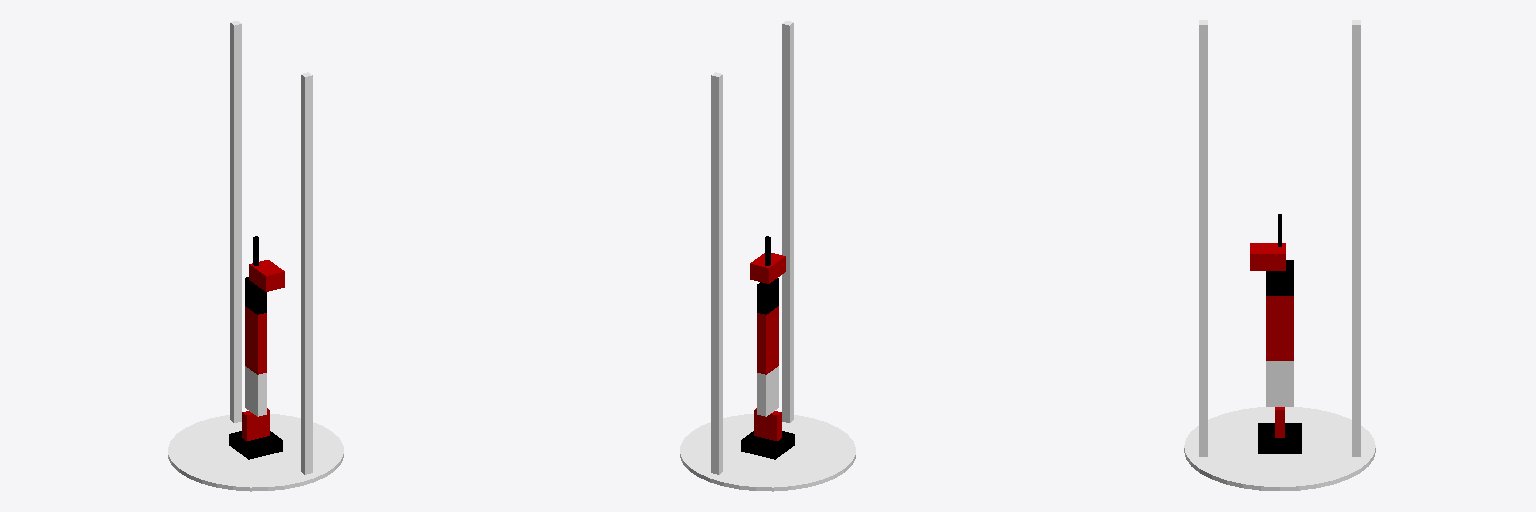
robot.urdf — six_dof_arm:
<?xml version="1.0" ?>
<!-- =================================================================================== -->
<!-- |    This document was autogenerated by xacro from six_dof_arm.xacro              | -->
<!-- |    EDITING THIS FILE BY HAND IS NOT RECOMMENDED                                 | -->
<!-- =================================================================================== -->
<robot name="six_dof_arm" xmlns:xacro="http://ros.org/wiki/xacro">
  <!-- Include materials -->
  <material name="Black">
    <color rgba="0.0 0.0 0.0 1.0"/>
  </material>
  <material name="Red">
    <color rgba="0.8 0.0 0.0 1.0"/>
  </material>
  <material name="White">
    <color rgba="1.0 1.0 1.0 1.0"/>
  </material>
  <!-- BOTTOM FIXED LINK 
This link is the base of the arm in which arm is placed 

-->
  <!-- ///////////////////////////////////////////////////////////////////////////////////////////////////////////////////// -->
  <joint name="bottom_joint" type="fixed">
    <origin rpy="0 0 0" xyz="0 0 0"/>
    <parent link="bottom_link"/>
    <child link="base_link"/>
  </joint>
  <link name="bottom_link">
    <visual>
      <origin rpy="0 0 0" xyz=" 0 0 0"/>
      <geometry>
        <cylinder length="0.01" radius="0.2"/>
      </geometry>
      <material name="White"/>
    </visual>
    <collision>
      <origin rpy="0 0 0" xyz=" 0 0 0"/>
      <geometry>
        <box size="1 1 0.02"/>
      </geometry>
    </collision>
    &gt;

  
  </link>
  <gazebo reference="bottom_link">
    <material>Gazebo/White</material>
  </gazebo>
  <!-- ///////////////////////////////////////////////////////////////////////////////////////////////////////////////////// -->
  <!-- BASE LINK -->
  <link name="base_link">
    <visual>
      <origin rpy="0 0 0" xyz="0 0 0.024"/>
      <!-- rotate PI/2 -->
      <geometry>
        <box size="0.09 0.09 0.028"/>
      </geometry>
      <material name="Black"/>
    </visual>
    <collision>
      <origin rpy="0 0 0" xyz="0 0 0.024"/>
      <!-- rotate PI/2 -->
      <geometry>
        <box size="0.09 0.09 0.028"/>
      </geometry>
    </collision>
    &gt;
	
    <inertial>
      <mass value="1"/>
      <inertia ixx="1.0" ixy="0.0" ixz="0.0" iyy="0.5" iyz="0.0" izz="1.0"/>
    </inertial>
  </link>
  <gazebo reference="base_link">
    <material>Gazebo/Black</material>
  </gazebo>
  <joint name="shoulder_pan_joint" type="revolute">
    <parent link="base_link"/>
    <child link="shoulder_pan_link"/>
    <origin rpy="0 0 0" xyz="0 0 0.038"/>
    <axis xyz="0 0 1"/>
    <limit effort="300" lower="-0.95993167404" upper="2.1816457596" velocity="1"/>
    <dynamics damping="50" friction="1"/>
  </joint>
  <!-- ///////////////////////////////////////////////////////////////////////////////////////////////////////////////////// -->
  <!-- SHOULDER PAN LINK -->
  <link name="shoulder_pan_link">
    <visual>
      <origin rpy="0 0 0" xyz="0 0 0.0325"/>
      <geometry>
        <box size="0.06 0.02 0.065"/>
      </geometry>
      <material name="Red"/>
    </visual>
    <collision>
      <origin rpy="0 0 0" xyz="0 0 0.0325"/>
      <geometry>
        <box size="0.06 0.02 0.065"/>
      </geometry>
    </collision>
    <inertial>
      <mass value="1"/>
      <inertia ixx="1.0" ixy="0.0" ixz="0.0" iyy="0.5" iyz="0.0" izz="1.0"/>
    </inertial>
  </link>
  <gazebo reference="shoulder_pan_link">
    <material>Gazebo/Red</material>
  </gazebo>
  <joint name="shoulder_pitch_joint" type="revolute">
    <parent link="shoulder_pan_link"/>
    <child link="shoulder_pitch_link"/>
    <origin rpy="0 0 0" xyz="0 0 0.065"/>
    <axis xyz="0 1 0"/>
    <limit effort="300" lower="-1.396122596" upper="1.7453417404" velocity="1"/>
    <dynamics damping="50" friction="1"/>
  </joint>
  <!-- ///////////////////////////////////////////////////////////////////////////////////////////////////////////////////// -->
  <!-- SHOULDER PITCH LINK -->
  <link name="shoulder_pitch_link">
    <visual>
      <origin rpy="1.570795 1.570795 1.570795" xyz="0.0 0 0.0525"/>
      <geometry>
        <box size="0.105 0.057 0.025"/>
      </geometry>
      <material name="White"/>
    </visual>
    <collision>
      <origin rpy="1.570795 1.570795 1.570795" xyz="0.0 0 0.0525"/>
      <geometry>
        <box size="0.105 0.057 0.025"/>
      </geometry>
    </collision>
    <inertial>
      <mass value="1"/>
      <inertia ixx="1.0" ixy="0.0" ixz="0.0" iyy="0.5" iyz="0.0" izz="1.0"/>
    </inertial>
  </link>
  <gazebo reference="shoulder_pitch_link">
    <material>Gazebo/White</material>
  </gazebo>
  <joint name="elbow_pitch_joint" type="revolute">
    <parent link="shoulder_pitch_link"/>
    <child link="elbow_pitch_link"/>
    <origin rpy="0 0 0" xyz="0 0 0.105"/>
    <axis xyz="0 -1 0"/>
    <limit effort="300" lower="-3.14159" upper="0" velocity="1"/>
    <dynamics damping="50" friction="1"/>
  </joint>
  <!-- ///////////////////////////////////////////////////////////////////////////////////////////////////////////////////// -->
  <!-- ELBOW PITCH LINK -->
  <link name="elbow_pitch_link">
    <visual>
      <origin rpy="1.570795 1.570795 0" xyz="0 0 0.075"/>
      <geometry>
        <box size="0.15 0.025 0.057"/>
      </geometry>
      <material name="Red"/>
    </visual>
    <collision>
      <origin rpy="1.570795 1.570795 0" xyz="0 0 0.075"/>
      <geometry>
        <box size="0.15 0.025 0.057"/>
      </geometry>
    </collision>
    <inertial>
      <mass value="1"/>
      <inertia ixx="1.0" ixy="0.0" ixz="0.0" iyy="0.5" iyz="0.0" izz="1.0"/>
    </inertial>
  </link>
  <gazebo reference="elbow_pitch_link">
    <material>Gazebo/Red</material>
  </gazebo>
  <joint name="wrist_pitch_joint" type="revolute">
    <parent link="elbow_pitch_link"/>
    <child link="wrist_pitch_link"/>
    <origin rpy="0 0 0" xyz="0.0 0.00 0.150"/>
    <axis xyz="0 1 0"/>
    <limit effort="300" lower="-1.39626222222" upper="1.74532777778" velocity="1"/>
    <dynamics damping="50" friction="1"/>
  </joint>
  <!-- WRIST PITCH LINK -->
  <link name="wrist_pitch_link">
    <visual>
      <origin rpy="0 1.570795 1.570795" xyz="0 0 0.035"/>
      <geometry>
        <box size="0.07 0.025 0.057"/>
      </geometry>
      <material name="Black"/>
    </visual>
    <collision>
      <origin rpy="0 1.570795 1.570795" xyz="0 0 0.035"/>
      <geometry>
        <box size="0.07 0.025 0.057"/>
      </geometry>
    </collision>
    <inertial>
      <mass value="1"/>
      <inertia ixx="1.0" ixy="0.0" ixz="0.0" iyy="0.5" iyz="0.0" izz="1.0"/>
    </inertial>
  </link>
  <gazebo reference="wrist_pitch_link">
    <material>Gazebo/White</material>
  </gazebo>
  <joint name="gripper_roll_joint" type="revolute">
    <parent link="wrist_pitch_link"/>
    <child link="gripper_roll_link"/>
    <origin rpy="0 0  1.570795" xyz="0 0 0.07"/>
    <axis xyz="0 0 1"/>
    <!--
		<limit effort="300" velocity="1" lower="-2.61799387799" upper="2.6128806087" />
		-->
    <limit effort="300" lower="0" upper="3.14159" velocity="1"/>
    <dynamics damping="50" friction="1"/>
  </joint>
  <!-- ///////////////////////////////////////////////////////////////////////////////////////////////////////////////////// -->
  <!-- GRIPPER ROLL LINK -->
  <link name="gripper_roll_link">
    <visual>
      <origin rpy="0 0 0" xyz="-0.025 -0.015 0.02"/>
      <geometry>
        <box size="0.075 0.05 0.04"/>
        <!-- <radius="${gripper_roll_width}" length="${gripper_roll_len}"/> -->
      </geometry>
      <material name="Red"/>
    </visual>
    <collision>
      <origin rpy="0 0 0" xyz="-0.03 -0.01 0.025"/>
      <geometry>
        <box size="0.075 0.05 0.04"/>
      </geometry>
    </collision>
    <inertial>
      <mass value="1"/>
      <inertia ixx="1.0" ixy="0.0" ixz="0.0" iyy="0.5" iyz="0.0" izz="1.0"/>
    </inertial>
  </link>
  <gazebo reference="gripper_roll_link">
    <material>Gazebo/Red</material>
  </gazebo>
  <!--joint name="finger_joint1" type="prismatic">
    <parent link="gripper_roll_link"/>
    <child link="gripper_finger_link1"/>
    <origin xyz="0 0 0.01" />
    <axis xyz="1 0 0" />
      <limit effort="100" lower="0" upper="0.025" velocity="1.0"/>


      <safety_controller k_position="20"
                         k_velocity="20"
                         soft_lower_limit="${-0.15 }"
                         soft_upper_limit="${ 0.0 }"/>


    <dynamics damping="50" friction="1"/>
  </joint -->
  <!-- ///////////////////////////////////////////////////////////////////////////////////////////////////////////////////// -->
  <!-- LEFT GRIPPER AFT LINK -->
  <link name="gripper_finger_link1">
    <visual>
      <origin rpy="0 1.570795 0" xyz="0.0 0 0.035"/>
      <geometry>
        <box size="0.07 0.01 0.01"/>
      </geometry>
      <material name="Black"/>
    </visual>
    <inertial>
      <mass value="1"/>
      <inertia ixx="1.0" ixy="0.0" ixz="0.0" iyy="0.5" iyz="0.0" izz="1.0"/>
    </inertial>
  </link>
  <gazebo reference="l_gripper_aft_link">
    <material>Gazebo/Black</material>
  </gazebo>
  <!-- Joint between Wrist roll and finger 1 -->
  <joint name="finger_joint1" type="prismatic">
    <parent link="gripper_roll_link"/>
    <child link="gripper_finger_link1"/>
    <origin xyz="0.0 0.0 0.04"/>
    <axis xyz="1 0 0"/>
    <limit effort="1" lower="0" upper="0.025" velocity="1.0"/>
    <!--    <mimic joint="gripper_finger_joint" multiplier="-1.0" offset="0.0" /> -->
    <dynamics damping="50" friction="1"/>
  </joint>
  <!-- RIGHT GRIPPER AFT LINK -->
  <link name="gripper_finger_link2">
    <visual>
      <origin rpy="0 1.570795 0" xyz="0.0 0 0.035"/>
      <geometry>
        <box size="0.07 0.01 0.01"/>
      </geometry>
      <material name="Black"/>
    </visual>
    <inertial>
      <mass value="1"/>
      <inertia ixx="1.0" ixy="0.0" ixz="0.0" iyy="0.5" iyz="0.0" izz="1.0"/>
    </inertial>
  </link>
  <gazebo reference="r_gripper_aft_link">
    <material>Gazebo/Black</material>
  </gazebo>
  <!-- Joint between Wrist roll and finger 2 -->
  <joint name="finger_joint2" type="prismatic">
    <parent link="gripper_roll_link"/>
    <child link="gripper_finger_link2"/>
    <origin xyz="0.0 0.00 0.04"/>
    <axis xyz="1 0 0"/>
    <limit effort="1" lower="-0.025" upper="0" velocity="1.0"/>
    <!--    <mimic joint="gripper_finger_joint" multiplier="-1.0" offset="0.0" /> -->
    <dynamics damping="50" friction="1"/>
  </joint>
  <!-- Grasping frame -->
  <!-- link name="grasping_frame">

      <inertial>
        <origin xyz="0 0 0" rpy="0 0 0"/>
        <mass value="0.0001"/>
        <cuboid_inertia mass="0.0001" x="0.001" y="0.001" z="0.001"/>
        <inertia  ixx="1.0" ixy="0.0"  ixz="0.0"  iyy="100.0"  iyz="0.0"  izz="1.0" />

      </inertial>

    <visual>
      <origin xyz="0 0 0"/>
      <geometry>
					
          <box size="${grasp_frame_len} ${grasp_frame_width} ${grasp_frame_height}" />
					
      </geometry>
      <material name="White" />
    </visual>

    </link>
	
    <joint name="grasping_frame_joint" type="fixed">
      <parent link="gripper_roll_link"/>
      <child link="grasping_frame"/>
      <origin xyz="0.08 0 0" rpy="0 0 0"/>
    </joint-->
  <!-- Transmissions for ROS Control -->
  <transmission name="tran1">
    <type>transmission_interface/SimpleTransmission</type>
    <joint name="shoulder_pan_joint">
      <hardwareInterface>hardware_interface/PositionJointInterface</hardwareInterface>
    </joint>
    <actuator name="motor1">
      <hardwareInterface>hardware_interface/PositionJointInterface</hardwareInterface>
      <mechanicalReduction>1</mechanicalReduction>
    </actuator>
  </transmission>
  <transmission name="tran1">
    <type>transmission_interface/SimpleTransmission</type>
    <joint name="shoulder_pitch_joint">
      <hardwareInterface>hardware_interface/PositionJointInterface</hardwareInterface>
    </joint>
    <actuator name="motor1">
      <hardwareInterface>hardware_interface/PositionJointInterface</hardwareInterface>
      <mechanicalReduction>1</mechanicalReduction>
    </actuator>
  </transmission>
  <transmission name="tran1">
    <type>transmission_interface/SimpleTransmission</type>
    <joint name="elbow_pitch_joint">
      <hardwareInterface>hardware_interface/PositionJointInterface</hardwareInterface>
    </joint>
    <actuator name="motor1">
      <hardwareInterface>hardware_interface/PositionJointInterface</hardwareInterface>
      <mechanicalReduction>1</mechanicalReduction>
    </actuator>
  </transmission>
  <transmission name="tran1">
    <type>transmission_interface/SimpleTransmission</type>
    <joint name="wrist_pitch_joint">
      <hardwareInterface>hardware_interface/PositionJointInterface</hardwareInterface>
    </joint>
    <actuator name="motor1">
      <hardwareInterface>hardware_interface/PositionJointInterface</hardwareInterface>
      <mechanicalReduction>1</mechanicalReduction>
    </actuator>
  </transmission>
  <transmission name="tran1">
    <type>transmission_interface/SimpleTransmission</type>
    <joint name="gripper_roll_joint">
      <hardwareInterface>hardware_interface/PositionJointInterface</hardwareInterface>
    </joint>
    <actuator name="motor1">
      <hardwareInterface>hardware_interface/PositionJointInterface</hardwareInterface>
      <mechanicalReduction>1</mechanicalReduction>
    </actuator>
  </transmission>
  <transmission name="tran1">
    <type>transmission_interface/SimpleTransmission</type>
    <joint name="finger_joint1">
      <hardwareInterface>hardware_interface/PositionJointInterface</hardwareInterface>
    </joint>
    <actuator name="motor1">
      <hardwareInterface>hardware_interface/PositionJointInterface</hardwareInterface>
      <mechanicalReduction>1</mechanicalReduction>
    </actuator>
  </transmission>
  <transmission name="tran1">
    <type>transmission_interface/SimpleTransmission</type>
    <joint name="finger_joint2">
      <hardwareInterface>hardware_interface/PositionJointInterface</hardwareInterface>
    </joint>
    <actuator name="motor1">
      <hardwareInterface>hardware_interface/PositionJointInterface</hardwareInterface>
      <mechanicalReduction>1</mechanicalReduction>
    </actuator>
  </transmission>
  <!-- ros_control plugin -->
  <gazebo>
    <plugin filename="libgazebo_ros_control.so" name="gazebo_ros_control">
      <robotNamespace>/six_dof_arm</robotNamespace>
    </plugin>
  </gazebo>
  <!-- Links to Kinect -->
  <link name="kinect_link">
    <visual>
      <origin rpy="0 0 0" xyz=" 0 0 0.5"/>
      <geometry>
        <box size="0.02 0.02 1.0"/>
      </geometry>
      <material name="White"/>
    </visual>
    <collision>
      <origin rpy="0 0 0" xyz="0 0.0 0.5"/>
      <geometry>
        <box size="0.02 0.02 1.0"/>
      </geometry>
    </collision>
    &gt;

    
    <inertial>
      <mass value="1"/>
      <inertia ixx="1.0" ixy="0.0" ixz="0.0" iyy="0.5" iyz="0.0" izz="1.0"/>
    </inertial>
  </link>
  <joint name="kinect_joint" type="fixed">
    <origin rpy="0 0 0" xyz="0.04 0.16 0.0"/>
    <parent link="base_link"/>
    <child link="kinect_link"/>
  </joint>
  <gazebo reference="kinect_link">
    <material>Gazebo/White</material>
  </gazebo>
  <link name="kinect_link2">
    <visual>
      <origin rpy="0 0 0" xyz=" 0 0 0.5"/>
      <geometry>
        <box size="0.02 0.02 1.0"/>
      </geometry>
      <material name="White"/>
    </visual>
    <collision>
      <origin rpy="0 0 0" xyz="0 0.0 0.5"/>
      <geometry>
        <box size="0.02 0.02 1.0"/>
      </geometry>
    </collision>
    &gt;

    
    <inertial>
      <mass value="1"/>
      <inertia ixx="1.0" ixy="0.0" ixz="0.0" iyy="0.5" iyz="0.0" izz="1.0"/>
    </inertial>
  </link>
  <joint name="kinect_joint2" type="fixed">
    <origin rpy="0 0 0" xyz="0.04 -0.16 0.0"/>
    <parent link="base_link"/>
    <child link="kinect_link2"/>
  </joint>
  <gazebo reference="kinect_link">
    <material>Gazebo/White</material>
  </gazebo>
  <!-- frames in the center of the camera -->
  <joint name="rgbd_camera_joint" type="fixed">
    <origin rpy="0 1.57079632679 0" xyz="0.02 -0.11 1.0"/>
    <parent link="kinect_link"/>
    <child link="rgbd_camera_link"/>
  </joint>
  <link name="rgbd_camera_link">
    <inertial>
      <origin rpy="0 0 0" xyz="-0.00936000000 -0.00003000000 -0.00273000000"/>
      <mass value="0.21970000000"/>
      <inertia ixx="0.00000429247" ixy="0.00000000000" ixz="0.00000002565" iyy="0.00000008027" iyz="0.00000000000" izz="0.00000427339"/>
    </inertial>
    <visual>
      <origin rpy="0 0 0" xyz="0 0 0"/>
      <geometry>
        <mesh filename="package://mastering_ros_robot_description_pkg/meshes/sensors/xtion_pro_live/xtion_pro_live.dae"/>
      </geometry>
      <material name="DarkGrey"/>
    </visual>
  </link>
  <joint name="rgbd_camera_optical_joint" type="fixed">
    <origin rpy="-1.57079632679 0 -1.57079632679" xyz="0 0 0"/>
    <parent link="rgbd_camera_link"/>
    <child link="rgbd_camera_optical_frame"/>
  </joint>
  <link name="rgbd_camera_optical_frame">
    <inertial>
      <origin rpy="0 0 0" xyz="0 0 0"/>
      <mass value="0.001"/>
      <inertia ixx="0.00001" ixy="0" ixz="0" iyy="0.00001" iyz="0" izz="0.00001"/>
    </inertial>
  </link>
  <!-- Depth sensor frames -->
  <joint name="rgbd_camera_depth_joint" type="fixed">
    <origin rpy="0 0 0" xyz="0.0 0.049 0.0"/>
    <parent link="rgbd_camera_link"/>
    <child link="rgbd_camera_depth_frame"/>
  </joint>
  <link name="rgbd_camera_depth_frame">
    <inertial>
      <origin rpy="0 0 0" xyz="0 0 0"/>
      <mass value="0.001"/>
      <inertia ixx="0.00001" ixy="0" ixz="0" iyy="0.00001" iyz="0" izz="0.00001"/>
    </inertial>
  </link>
  <joint name="rgbd_camera_depth_optical_joint" type="fixed">
    <origin rpy="-1.57079632679 0.0 -1.57079632679" xyz="0 0 0"/>
    <parent link="rgbd_camera_depth_frame"/>
    <child link="rgbd_camera_depth_optical_frame"/>
  </joint>
  <link name="rgbd_camera_depth_optical_frame">
    <inertial>
      <origin rpy="0 0 0" xyz="0 0 0"/>
      <mass value="0.001"/>
      <inertia ixx="0.00001" ixy="0" ixz="0" iyy="0.00001" iyz="0" izz="0.00001"/>
    </inertial>
  </link>
  <!-- RGB sensor frames -->
  <joint name="rgbd_camera_rgb_joint" type="fixed">
    <origin rpy="0 0 0" xyz="0.0 0.022 0.0"/>
    <parent link="rgbd_camera_link"/>
    <child link="rgbd_camera_rgb_frame"/>
  </joint>
  <link name="rgbd_camera_rgb_frame">
    <inertial>
      <origin rpy="0 0 0" xyz="0 0 0"/>
      <mass value="0.001"/>
      <inertia ixx="0.00001" ixy="0" ixz="0" iyy="0.00001" iyz="0" izz="0.00001"/>
    </inertial>
  </link>
  <joint name="rgbd_camera_rgb_optical_joint" type="fixed">
    <origin rpy="-1.57079632679 0.0 -1.57079632679" xyz="0 0 0"/>
    <parent link="rgbd_camera_rgb_frame"/>
    <child link="rgbd_camera_rgb_optical_frame"/>
  </joint>
  <link name="rgbd_camera_rgb_optical_frame">
    <inertial>
      <origin rpy="0 0 0" xyz="0 0 0"/>
      <mass value="0.001"/>
      <inertia ixx="0.00001" ixy="0" ixz="0" iyy="0.00001" iyz="0" izz="0.00001"/>
    </inertial>
  </link>
  <gazebo reference="rgbd_camera_link">
    <!-- Depth (IR) -->
    <sensor name="rgbd_camera_frame_sensor" type="depth">
      <always_on>true</always_on>
      <update_rate>6.0</update_rate>
      <camera>
        <horizontal_fov>1.01229096616</horizontal_fov>
        <image>
          <format>R8G8B8</format>
          <width>800</width>
          <height>600</height>
        </image>
        <clip>
          <near>0.5</near>
          <far>3.0</far>
        </clip>
      </camera>
      <plugin filename="libgazebo_ros_openni_kinect.so" name="rgbd_camera_frame_controller">
        <alwaysOn>true</alwaysOn>
        <updateRate>6.0</updateRate>
        <cameraName>rgbd_camera</cameraName>
        <imageTopicName>ir/image_raw</imageTopicName>
        <cameraInfoTopicName>ir/camera_info</cameraInfoTopicName>
        <depthImageTopicName>depth/image_raw</depthImageTopicName>
        <depthImageCameraInfoTopicName>depth/camera_info</depthImageCameraInfoTopicName>
        <pointCloudTopicName>depth/points</pointCloudTopicName>
        <frameName>rgbd_camera_optical_frame</frameName>
        <pointCloudCutoff>0.5</pointCloudCutoff>
        <pointCloudCutoffMax>3.0</pointCloudCutoffMax>
        <rangeMax>3.0</rangeMax>
        <!-- Distortion parameters not supported in gazebo 1.9.* plugins -->
        <!--distortionK1>0.00000001</distortionK1>
          <distortionK2>0.00000001</distortionK2>
          <distortionK3>0.00000001</distortionK3>
          <distortionT1>0.00000001</distortionT1>
          <distortionT2>0.00000001</distortionT2-->
      </plugin>
    </sensor>
    <!-- RGB -->
    <sensor name="rgbd_camera_frame_sensor" type="depth">
      <always_on>true</always_on>
      <update_rate>6.0</update_rate>
      <camera>
        <horizontal_fov>1.01229096616</horizontal_fov>
        <image>
          <format>R8G8B8</format>
          <width>800</width>
          <height>600</height>
        </image>
        <clip>
          <near>0.5</near>
          <far>3.0</far>
        </clip>
      </camera>
      <plugin filename="libgazebo_ros_openni_kinect.so" name="rgbd_camera_frame_controller">
        <alwaysOn>true</alwaysOn>
        <updateRate>6.0</updateRate>
        <cameraName>rgbd_camera</cameraName>
        <imageTopicName>rgb/image_raw</imageTopicName>
        <cameraInfoTopicName>rgb/camera_info</cameraInfoTopicName>
        <pointCloudTopicName>rgb/points</pointCloudTopicName>
        <depthImageTopicName>depth/image_raw</depthImageTopicName>
        <depthImageCameraInfoTopicName>depth/camera_info</depthImageCameraInfoTopicName>
        <frameName>rgbd_camera_optical_frame</frameName>
        <pointCloudCutoff>0.5</pointCloudCutoff>
        <pointCloudCutoffMax>3.0</pointCloudCutoffMax>
        <rangeMax>3.0</rangeMax>
      </plugin>
    </sensor>
  </gazebo>
</robot>

--- What the picture shows (computed from the rendered views, not written in the file) ---
3 views of the same robot in one strip: view 1: azimuth 30°, elevation 25°; view 2: azimuth 150°, elevation 25°; view 3: azimuth 270°, elevation 25° (orthographic).
Model six_dof_arm with 17 links and 16 joints (5 revolute, 2 prismatic, 9 fixed), rooted at bottom_link, posed all joints at 0.
Links seen in each view (by area): view 1: bottom_link, kinect_link, kinect_link2, elbow_pitch_link, base_link, shoulder_pitch_link, gripper_roll_link, shoulder_pan_link, wrist_pitch_link; view 2: bottom_link, kinect_link, kinect_link2, elbow_pitch_link, base_link, shoulder_pitch_link, gripper_roll_link, shoulder_pan_link, wrist_pitch_link; view 3: bottom_link, kinect_link, kinect_link2, elbow_pitch_link, shoulder_pitch_link, base_link, gripper_roll_link, wrist_pitch_link.
Link boxes in pixels (<box>): bottom_link: <box>168,414,343,491</box>; kinect_link: <box>230,21,241,422</box>; kinect_link2: <box>301,72,312,474</box>; elbow_pitch_link: <box>245,306,266,374</box>; base_link: <box>229,431,282,459</box>; shoulder_pitch_link: <box>245,366,266,416</box>; gripper_roll_link: <box>249,260,284,291</box>; shoulder_pan_link: <box>242,408,269,440</box>; wrist_pitch_link: <box>245,277,266,314</box>; bottom_link: <box>680,414,855,491</box>; kinect_link: <box>711,72,722,474</box>; kinect_link2: <box>782,21,793,422</box>; elbow_pitch_link: <box>757,306,778,374</box>; base_link: <box>741,431,794,459</box>; shoulder_pitch_link: <box>757,366,778,416</box>; gripper_roll_link: <box>750,253,785,283</box>; shoulder_pan_link: <box>754,408,781,440</box>; wrist_pitch_link: <box>757,278,778,314</box>; bottom_link: <box>1184,407,1375,490</box>; kinect_link: <box>1352,20,1360,456</box>; kinect_link2: <box>1199,20,1207,456</box>; elbow_pitch_link: <box>1266,296,1293,360</box>; shoulder_pitch_link: <box>1266,361,1293,406</box>; base_link: <box>1258,423,1301,453</box>; gripper_roll_link: <box>1250,243,1285,270</box>; wrist_pitch_link: <box>1266,260,1293,295</box>.
Size in the robot's own frame: 0.4 by 0.4 by 1 metres.
0 mesh visuals loaded from 1 distinct referenced files (none loaded); not drawn: 1 (reference not matched to a file when rendering).